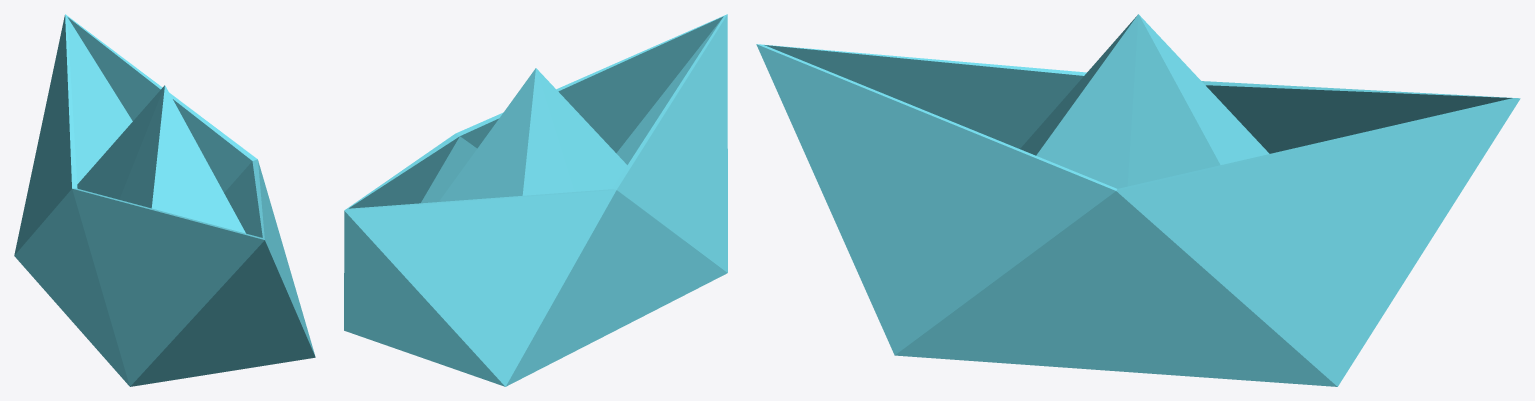
The model's file is boat.fbx.
The picture shows the model from 3 angles, left to right: view 1: azimuth 30°, elevation 25°; view 2: azimuth 150°, elevation 25°; view 3: azimuth 270°, elevation 25°; orthographic projection. The views are drawn at different scales.
Parts seen in each view (by area): view 1: Boat; view 2: Boat; view 3: Boat.
Part boxes in pixels (box(x1,y1,x2,y2)): Boat: box(14, 14, 315, 386); Boat: box(344, 14, 727, 386); Boat: box(756, 14, 1520, 386).
Size of the model in its own units: 342 by 334 by 769.
